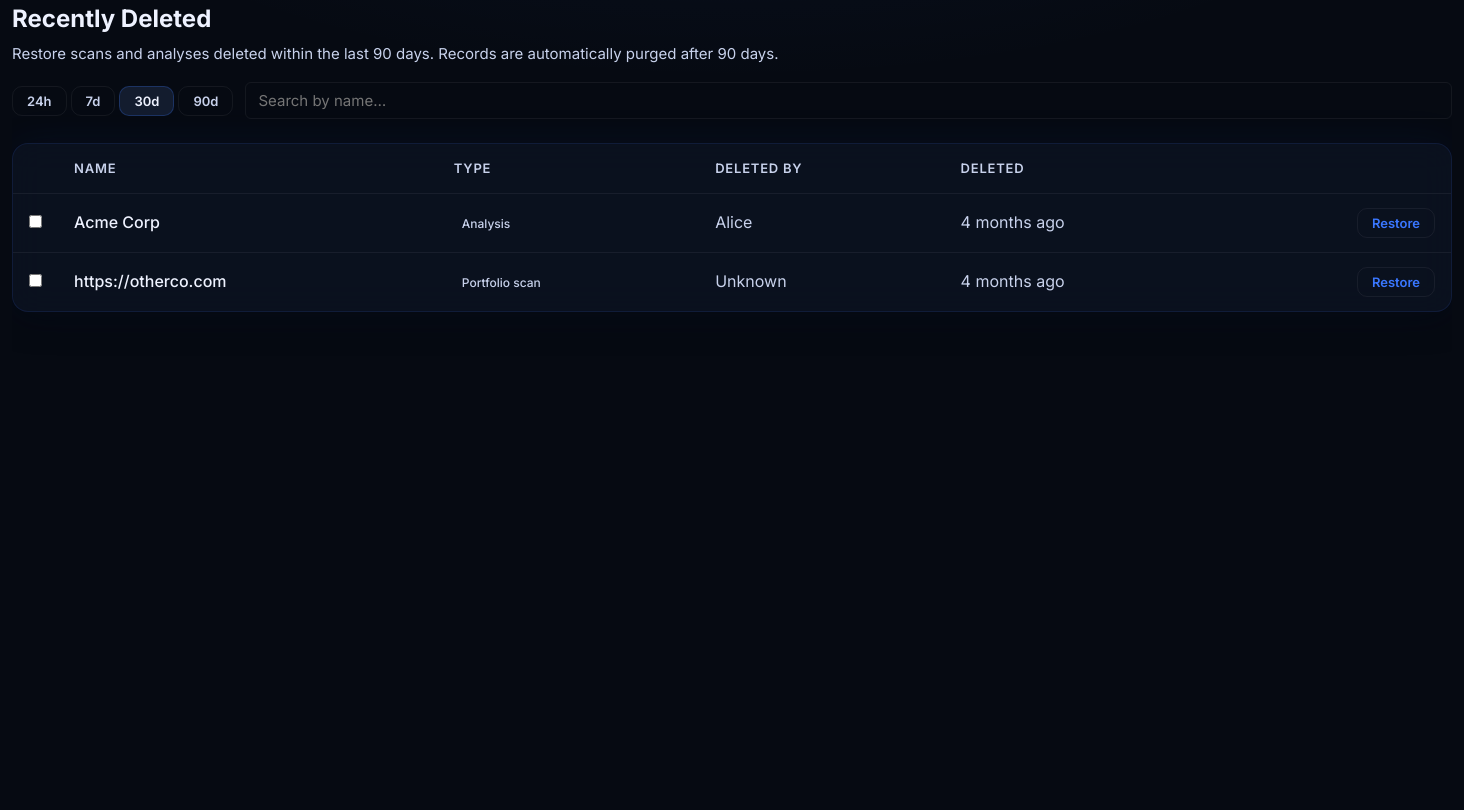
Test: RecentlyDeletedView › bulk Restore POSTs the array of selected ids
Click the checkbox named "Select Acme Corp" at (36, 222), box [29,215,42,228]
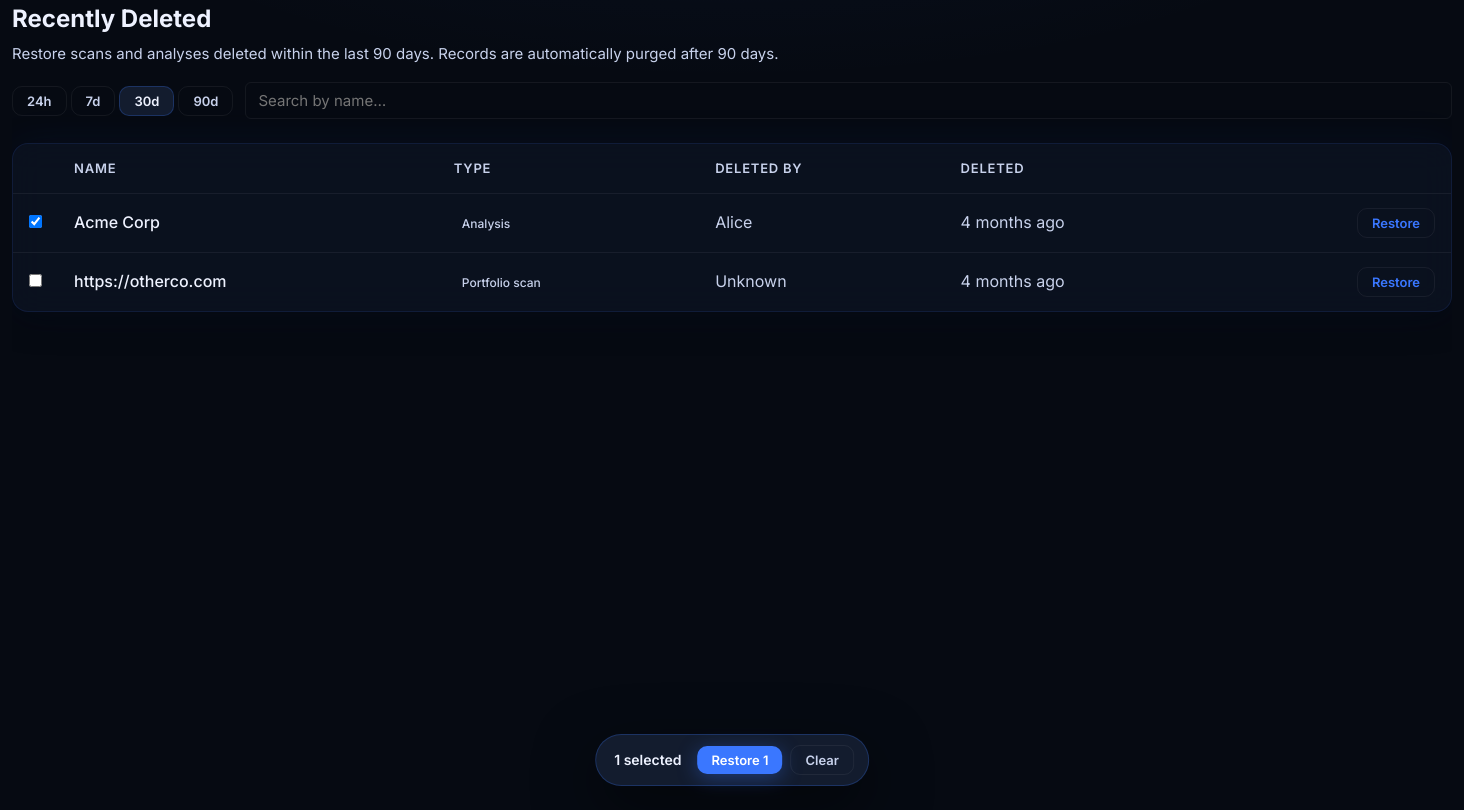
Click the checkbox named "Select https://otherco.com" at (36, 281), box [29,274,42,287]
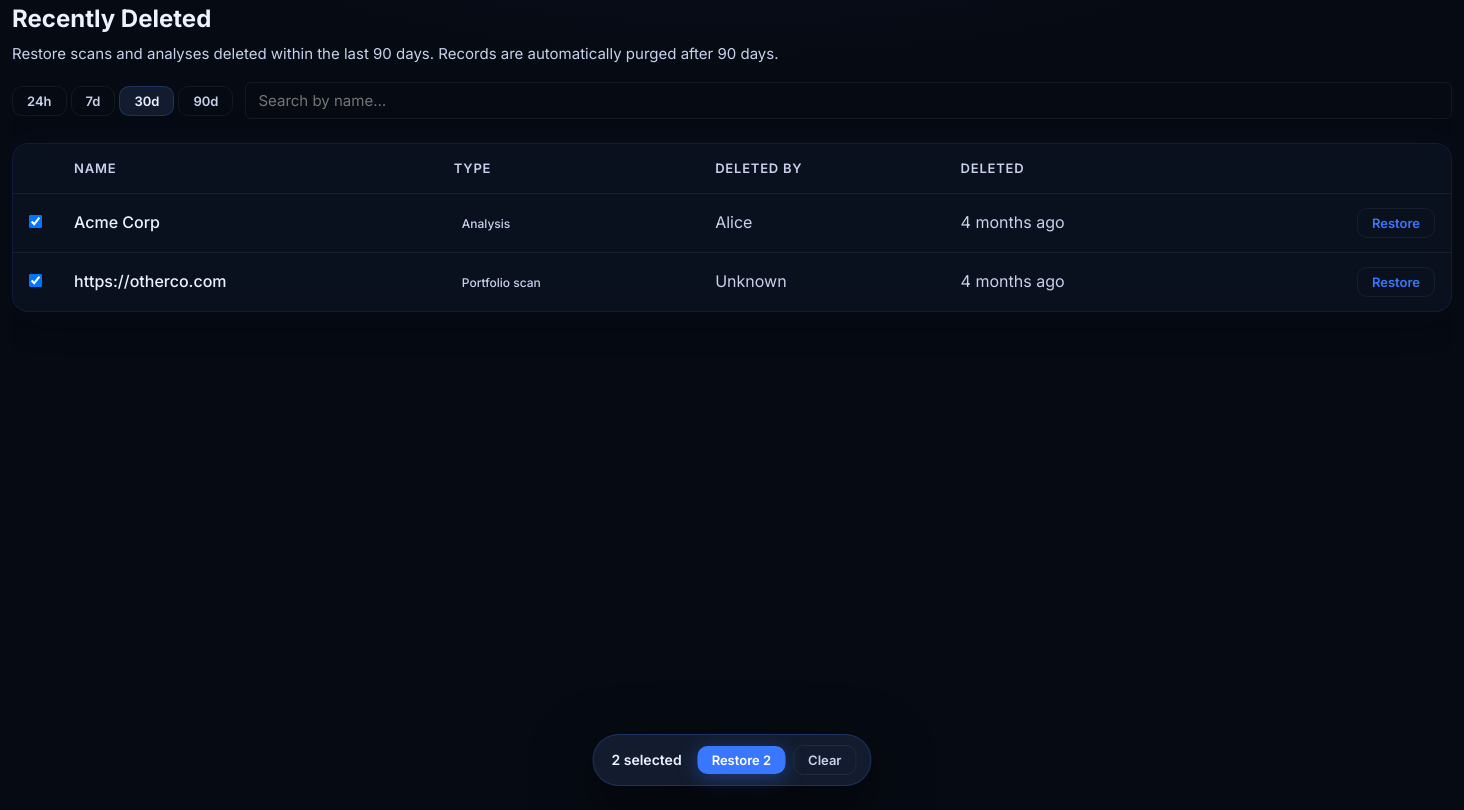
Click the button with aria-label "Restore 2 selected records" at (741, 760), box [698,746,785,774]
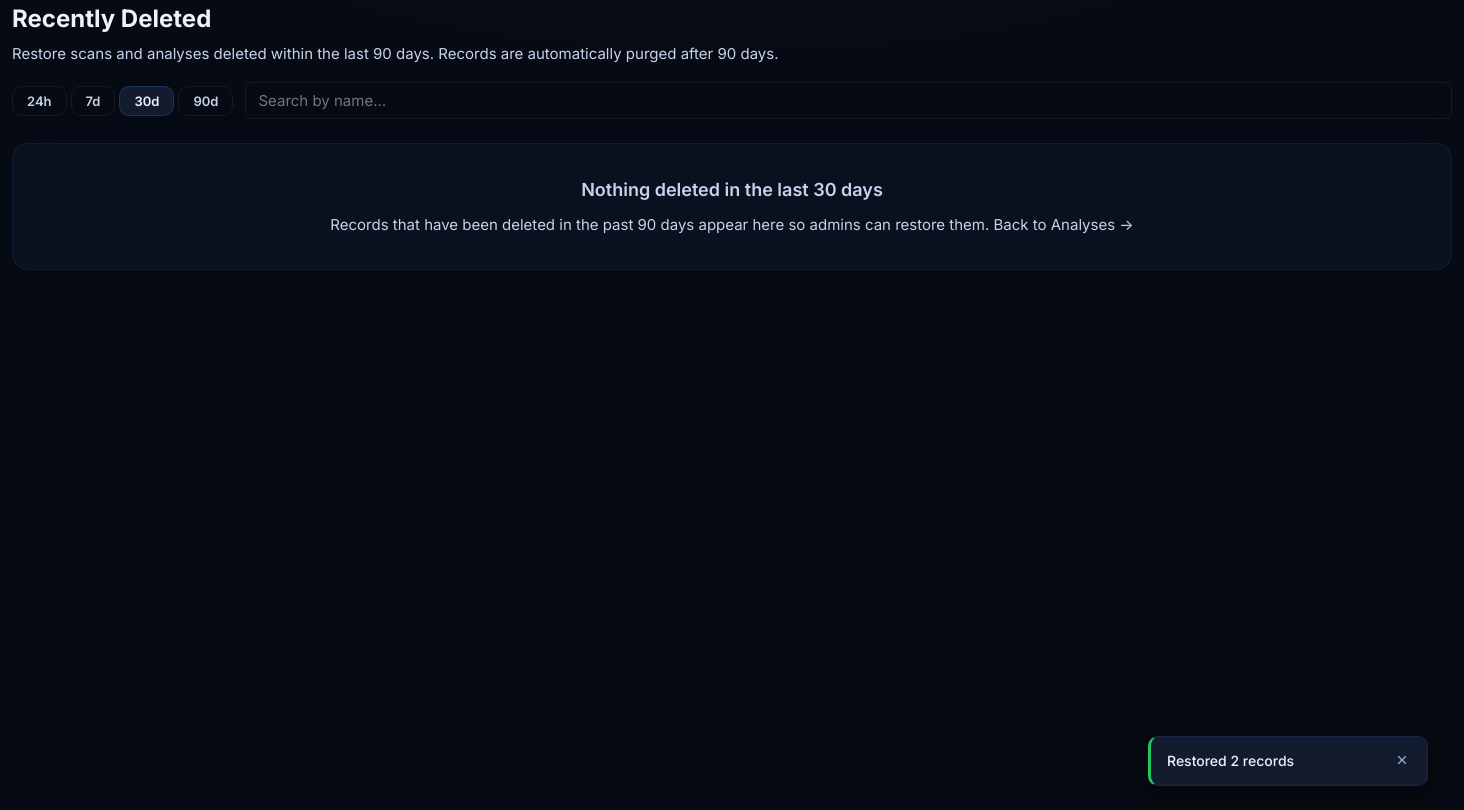
Expected: the text "Restored 2 records" is shown, [1167,752,1294,769]
